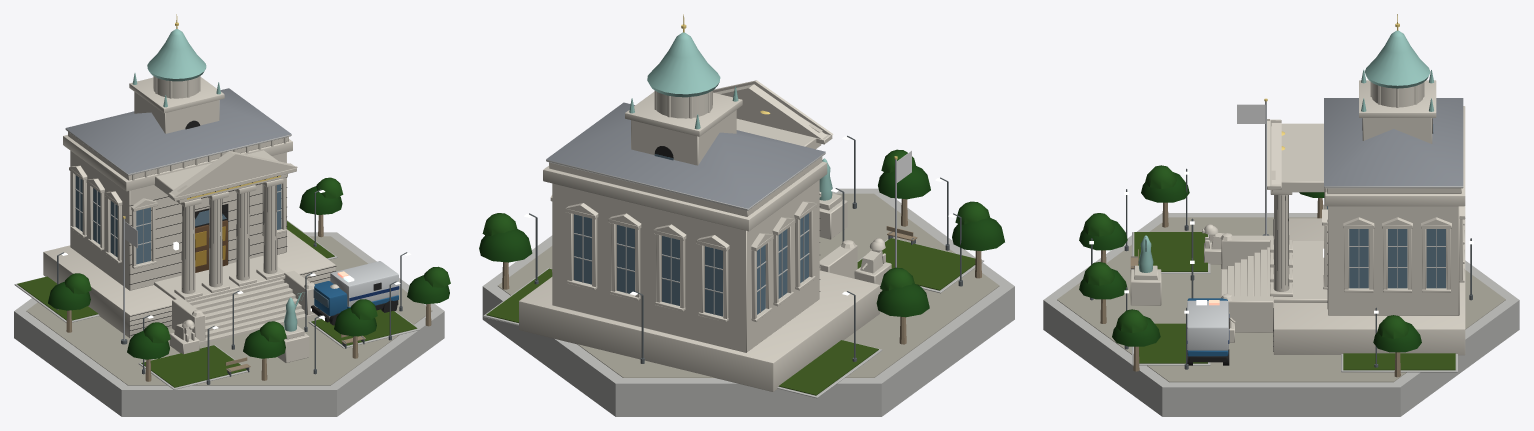
Rendered from courthouse.glb.
3 views of the same model, side by side, from view 1: azimuth 30°, elevation 25°; view 2: azimuth 150°, elevation 25°; view 3: azimuth 270°, elevation 25° (orthographic). The views are drawn at different scales.
Visible parts, largest first — view 1: stone, wall_concrete, pavers, roof_slate, leaf, turf, dark, paint, glass, copper, wood, steel_dark (+1 smaller); view 2: stone, wall_concrete, roof_slate, pavers, leaf, glass, turf, copper, steel_dark, wood; view 3: stone, wall_concrete, pavers, roof_slate, leaf, turf, glass, copper, paint, steel_dark, wood, dark (+1 smaller).
Part boxes in pixels (x1=…): stone: x1=43, y1=76, x2=339, y2=362; wall_concrete: x1=14, y1=129, x2=444, y2=416; pavers: x1=26, y1=236, x2=432, y2=385; roof_slate: x1=65, y1=88, x2=291, y2=174; leaf: x1=48, y1=177, x2=450, y2=359; turf: x1=17, y1=221, x2=417, y2=387; dark: x1=129, y1=120, x2=398, y2=335; paint: x1=314, y1=261, x2=399, y2=316; glass: x1=75, y1=175, x2=328, y2=307; copper: x1=132, y1=29, x2=304, y2=331; wood: x1=66, y1=214, x2=431, y2=381; steel_dark: x1=56, y1=189, x2=407, y2=384; stone: x1=519, y1=80, x2=891, y2=391; wall_concrete: x1=482, y1=152, x2=1014, y2=416; roof_slate: x1=546, y1=102, x2=825, y2=208; pavers: x1=498, y1=193, x2=999, y2=377; leaf: x1=479, y1=149, x2=1004, y2=317; glass: x1=574, y1=154, x2=808, y2=316; turf: x1=486, y1=238, x2=975, y2=395; copper: x1=629, y1=32, x2=832, y2=200; steel_dark: x1=529, y1=135, x2=962, y2=363; wood: x1=502, y1=199, x2=981, y2=344; stone: x1=1130, y1=80, x2=1465, y2=355; wall_concrete: x1=1043, y1=186, x2=1519, y2=416; pavers: x1=1057, y1=217, x2=1505, y2=382; roof_slate: x1=1324, y1=98, x2=1463, y2=186; leaf: x1=1079, y1=165, x2=1421, y2=352; turf: x1=1134, y1=232, x2=1455, y2=370; glass: x1=1327, y1=124, x2=1445, y2=288; copper: x1=1138, y1=30, x2=1433, y2=272; paint: x1=1187, y1=298, x2=1229, y2=356; steel_dark: x1=1090, y1=168, x2=1472, y2=369; wood: x1=1100, y1=198, x2=1400, y2=377; dark: x1=1187, y1=118, x2=1432, y2=365.
Bounding box in the file's own units: 21.41 × 18 × 24.6.
